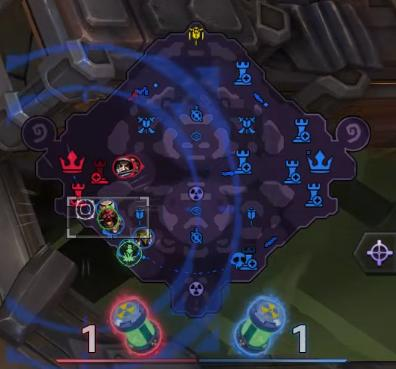blue nexus: (306, 149, 333, 173)
blue player: (95, 199, 121, 232), (132, 227, 154, 249)
blue tower: (230, 249, 258, 271), (233, 148, 253, 176), (305, 182, 324, 208), (292, 117, 311, 143), (282, 158, 301, 184), (233, 60, 252, 86)
red nexus: (59, 149, 86, 173)
red player: (112, 155, 143, 179), (98, 208, 119, 230)
red tower: (91, 159, 110, 184)
